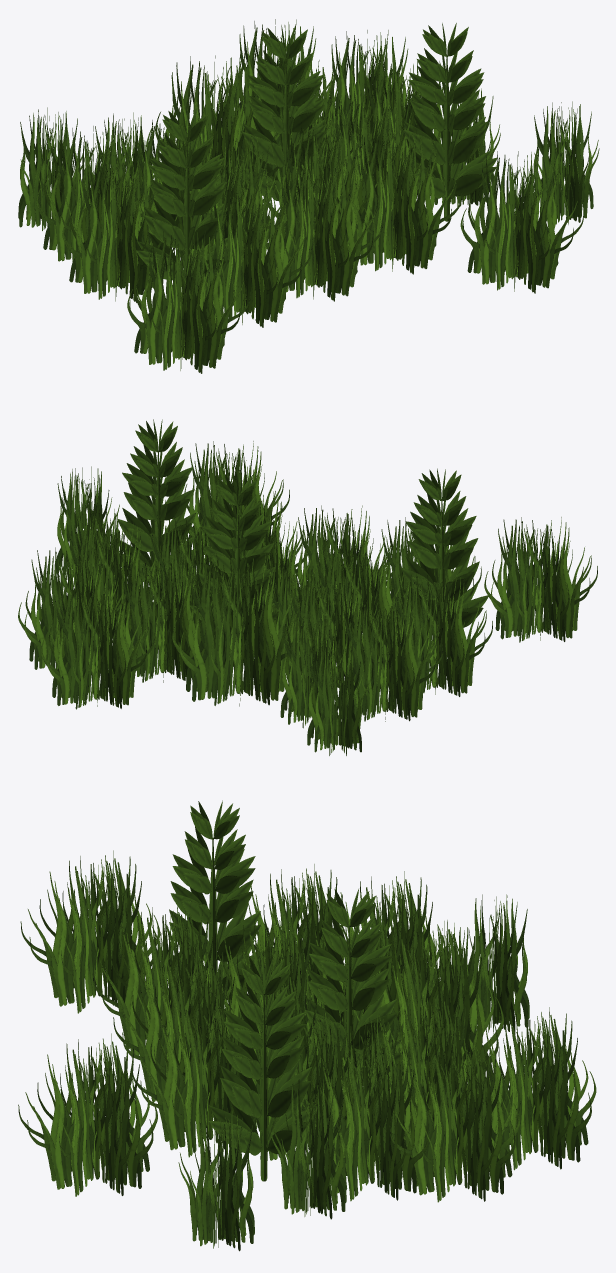
The model's file is GrassBatch.fbx.
3 views of the same model, one above another, from view 1: azimuth 30°, elevation 25°; view 2: azimuth 150°, elevation 25°; view 3: azimuth 270°, elevation 25° (orthographic). The views are drawn at different scales.
Visible parts, largest first — view 1: Big_Grass22; view 2: Big_Grass22; view 3: Big_Grass22.
Part boxes in pixels (bbox=[...]): Big_Grass22: bbox=[18, 19, 599, 373]; Big_Grass22: bbox=[18, 419, 597, 755]; Big_Grass22: bbox=[18, 800, 596, 1251].
Size of the model in its own units: 2.29 by 0.8623 by 1.96.
